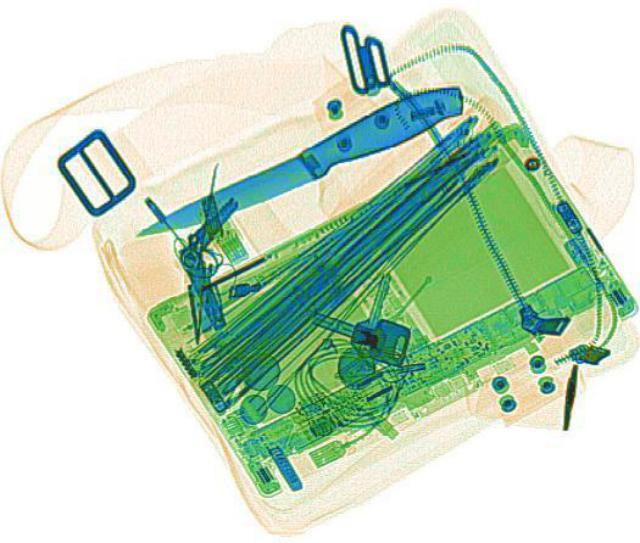Knife: (122, 74, 474, 253)
